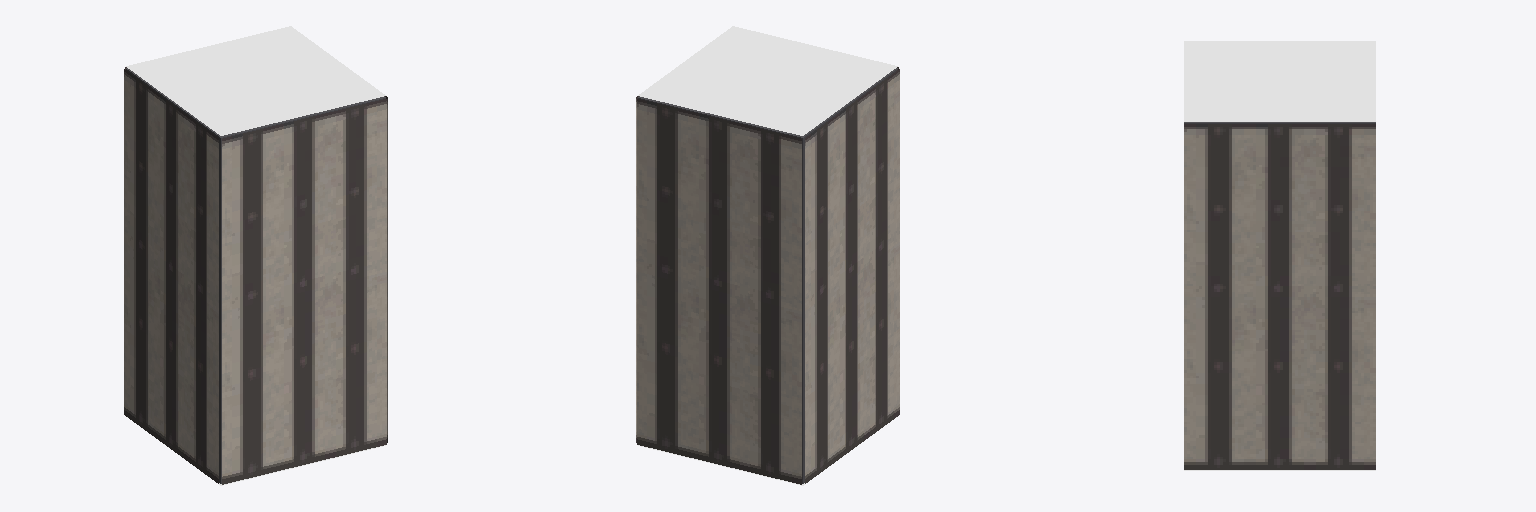
The picture shows the model from 3 angles: view 1: azimuth 30°, elevation 25°; view 2: azimuth 150°, elevation 25°; view 3: azimuth 270°, elevation 25°; orthographic projection.
Visible parts, largest first — view 1: Burnergenerator5, Burnergenerator4, Burnergenerator2, Burnergenerator1; view 2: Burnergenerator6, Burnergenerator4, Burnergenerator2, Burnergenerator1; view 3: Burnergenerator7, Burnergenerator2.
Part boxes in pixels (bbox=[...]): Burnergenerator5: bbox=[222, 99, 386, 484]; Burnergenerator4: bbox=[124, 69, 218, 483]; Burnergenerator2: bbox=[126, 26, 385, 135]; Burnergenerator1: bbox=[126, 68, 385, 483]; Burnergenerator6: bbox=[637, 99, 801, 484]; Burnergenerator4: bbox=[805, 69, 899, 483]; Burnergenerator2: bbox=[638, 26, 897, 135]; Burnergenerator1: bbox=[638, 68, 897, 483]; Burnergenerator7: bbox=[1184, 124, 1375, 469]; Burnergenerator2: bbox=[1184, 41, 1375, 121].
Bounding box in the file's own units: 2.04 × 4.04 × 2.04.
4 materials, 1 textured.